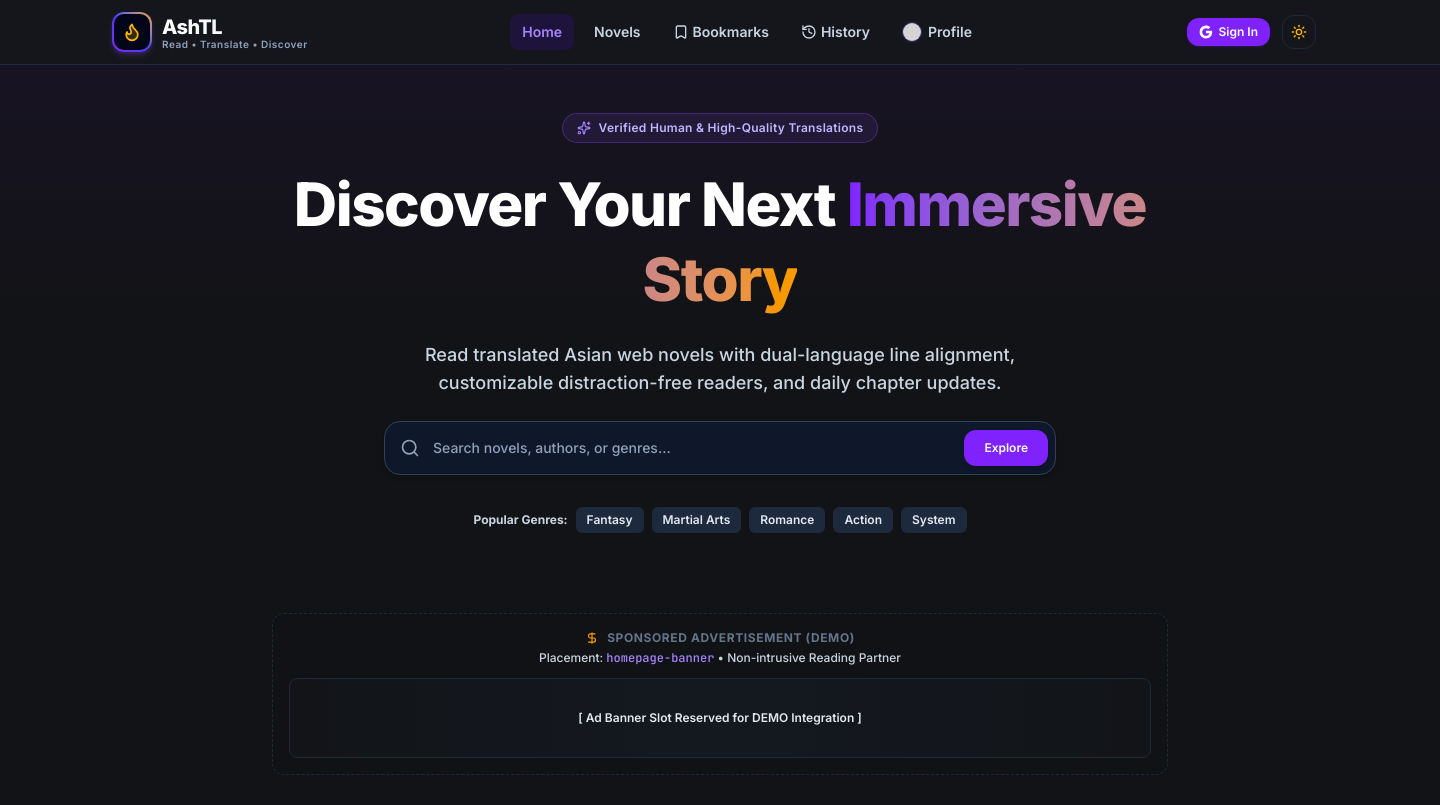
Test: AshTL Application Core Workflows & Admin Security › navigates back to home from Novels, Bookmarks, and History views using in-app back button
This screenshot has width=1440, height=805.
Click the button "Novels" at [617, 32], box [582,14,652,50]
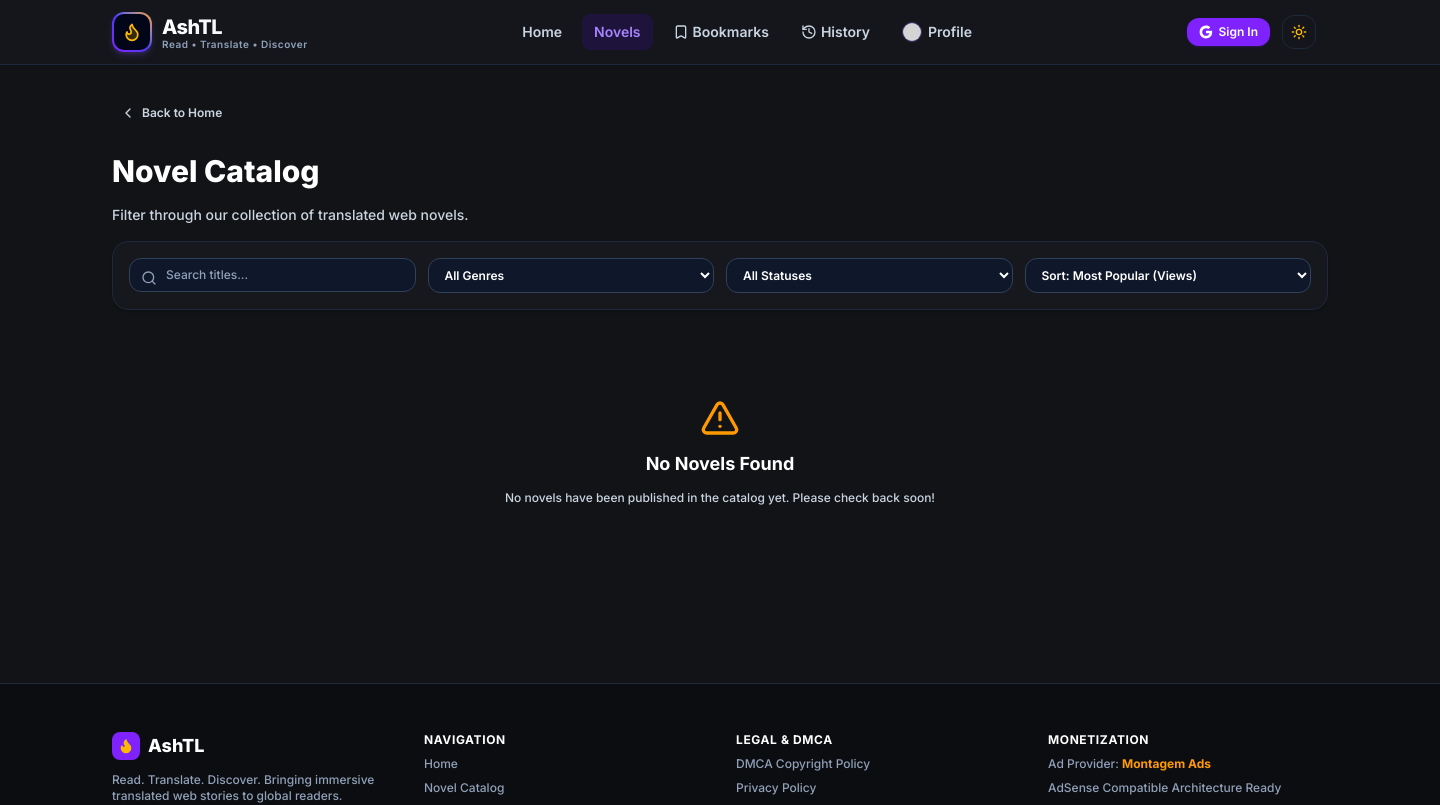
expect the heading "Novel Catalog" is shown: met, box [112,153,320,189]
Click the button "Back to Home" at [171, 113], box [112,97,230,129]
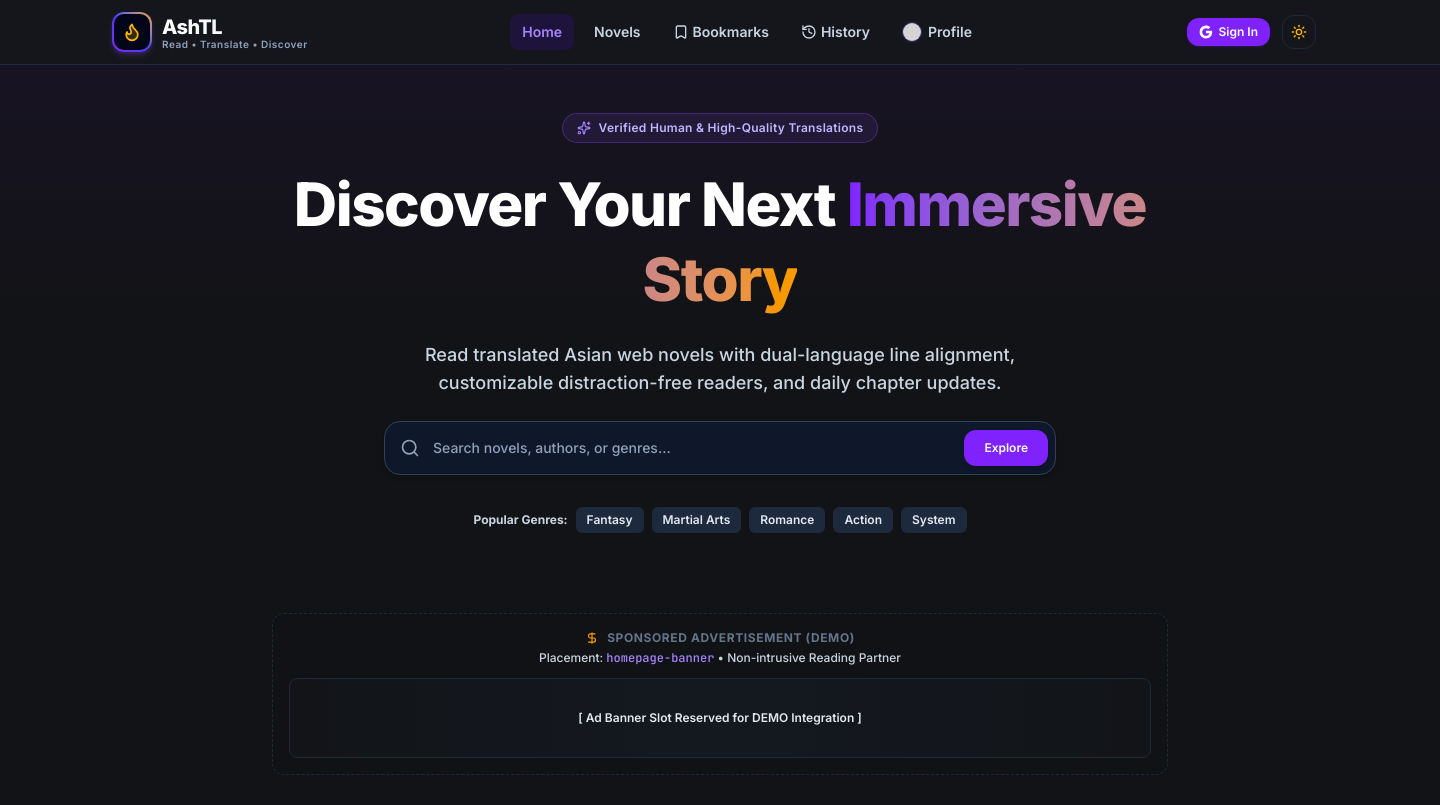
expect the heading "Discover Your Next Immersive Story" is shown: met, box [272,167,1168,317]
Click the button "Bookmarks" at [721, 32], box [660,14,781,50]
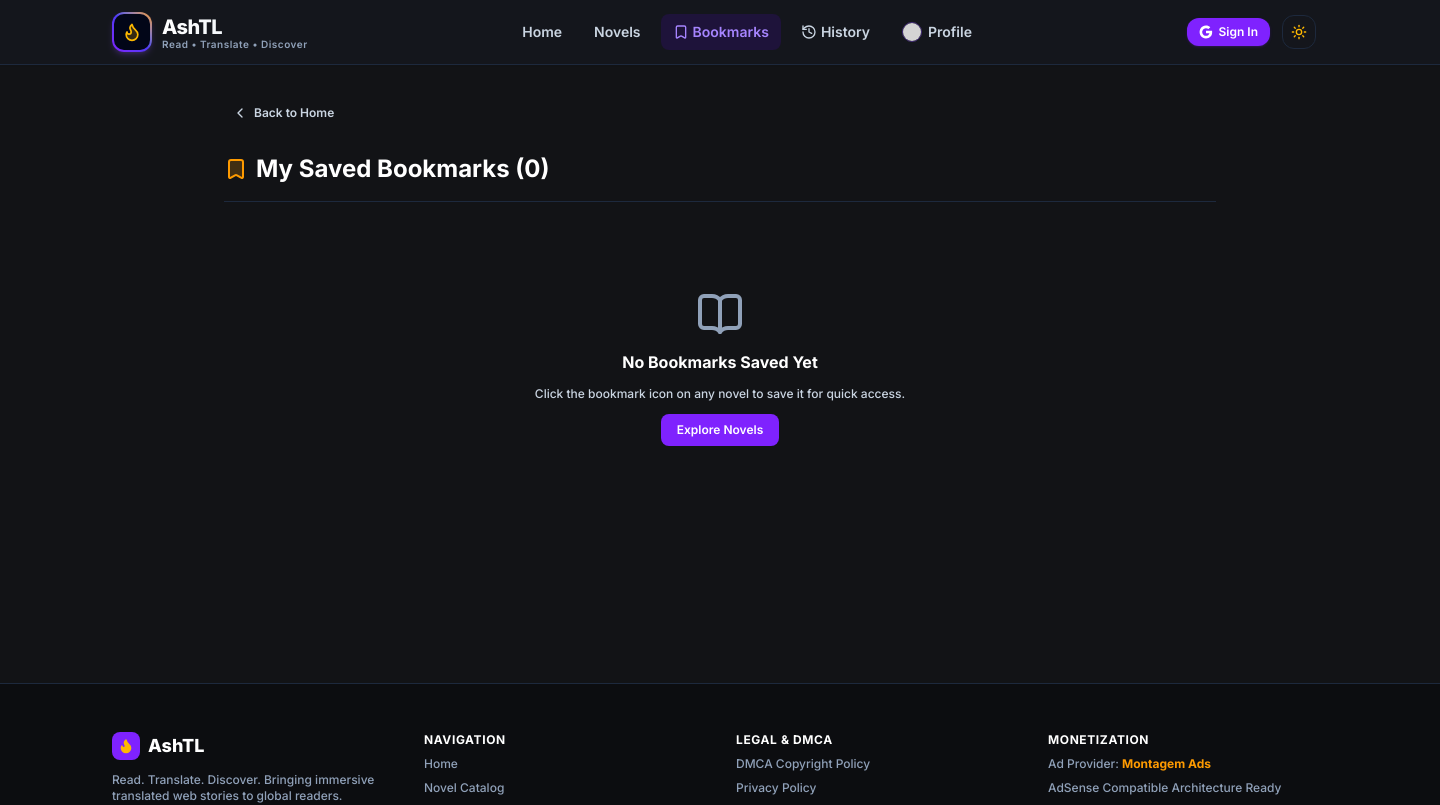
expect the heading "My Saved Bookmarks (0)" is shown: met, box [224,153,550,185]
Click the button "Back to Home" at [283, 113], box [224,97,342,129]
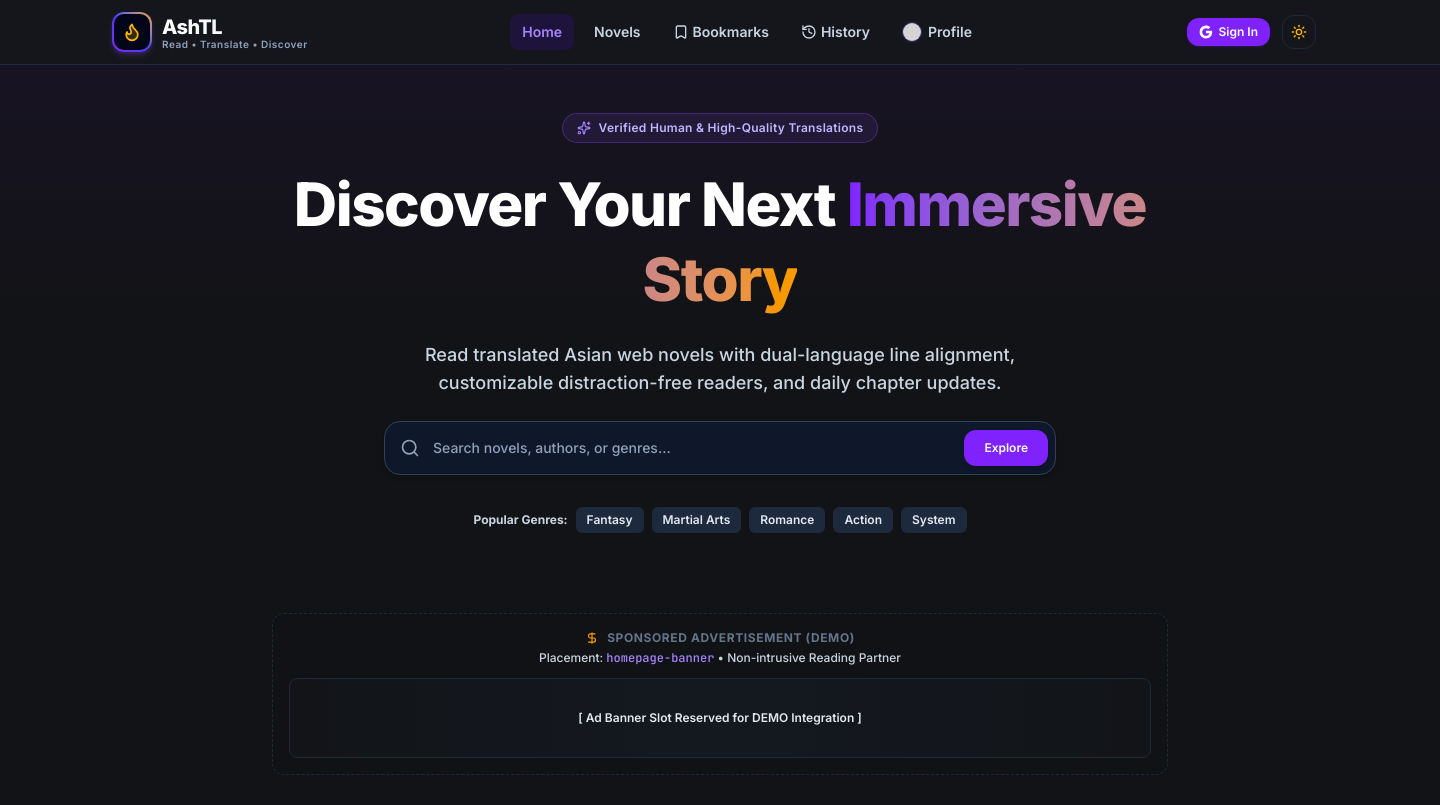
expect the heading "Discover Your Next Immersive Story" is shown: met, box [272,167,1168,317]
Click the button "History" at [835, 32], box [789,14,882,50]
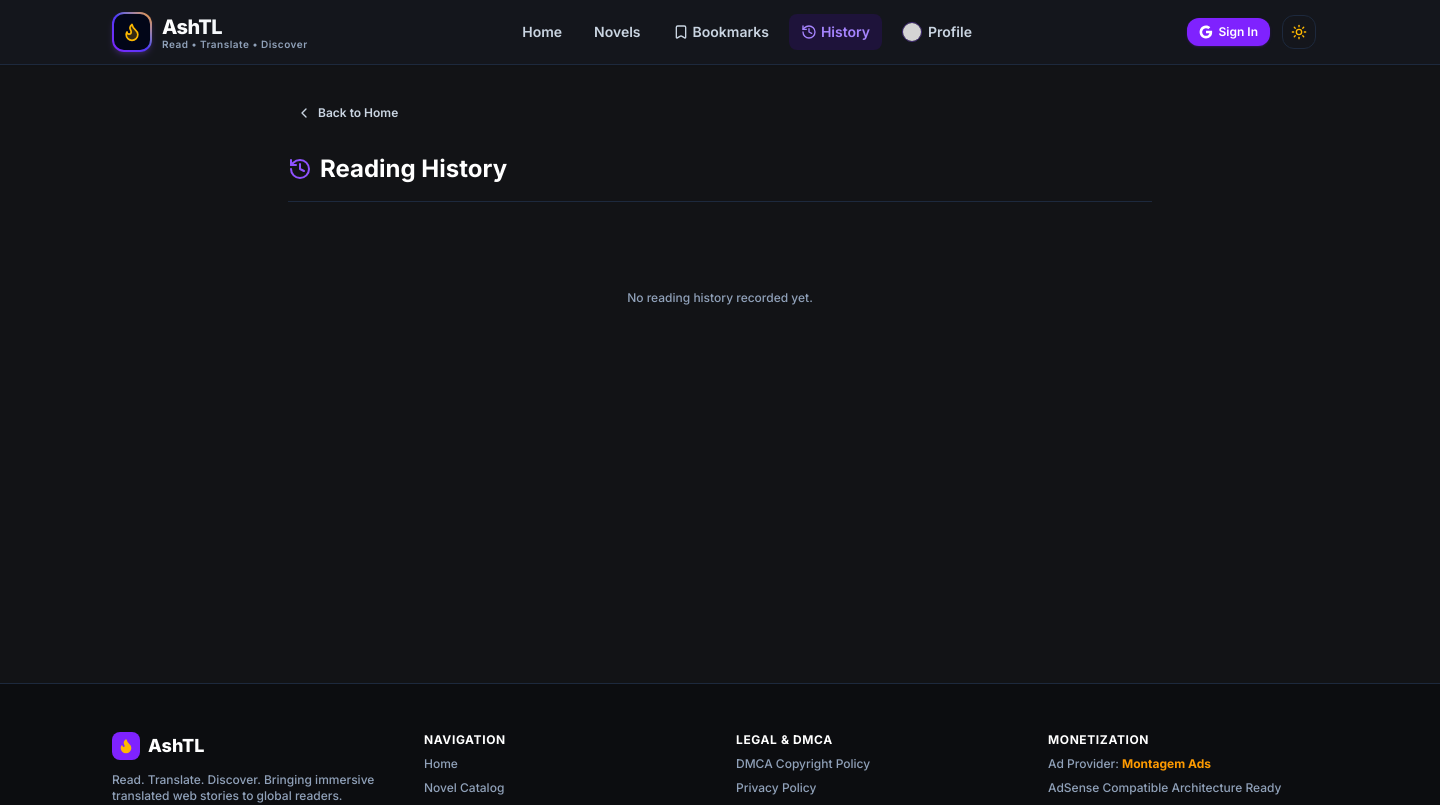
expect the heading "Reading History" is shown: met, box [288,153,507,185]
Click the button "Back to Home" at [347, 113], box [288,97,406,129]
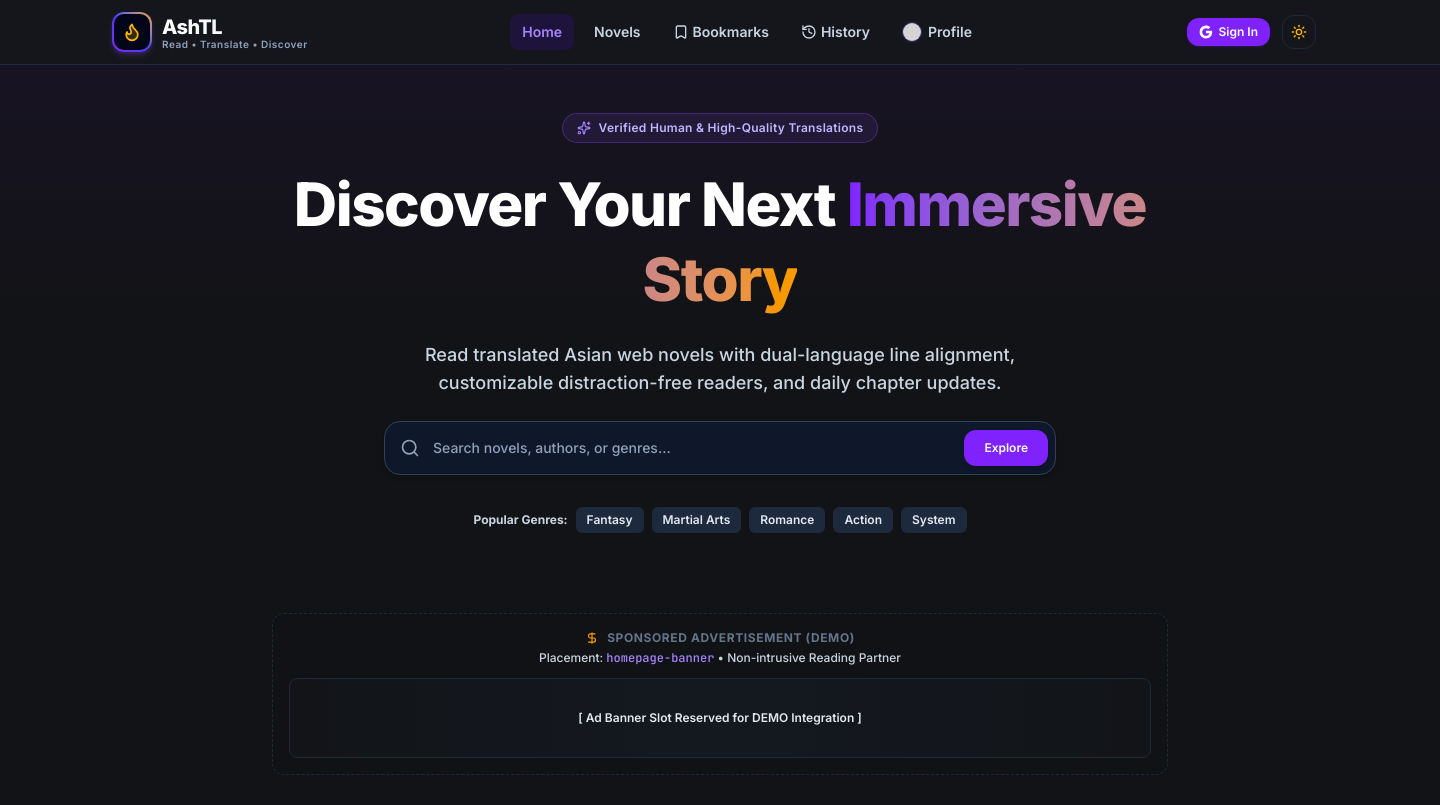
expect the heading "Discover Your Next Immersive Story" is shown: met, box [272,167,1168,317]
